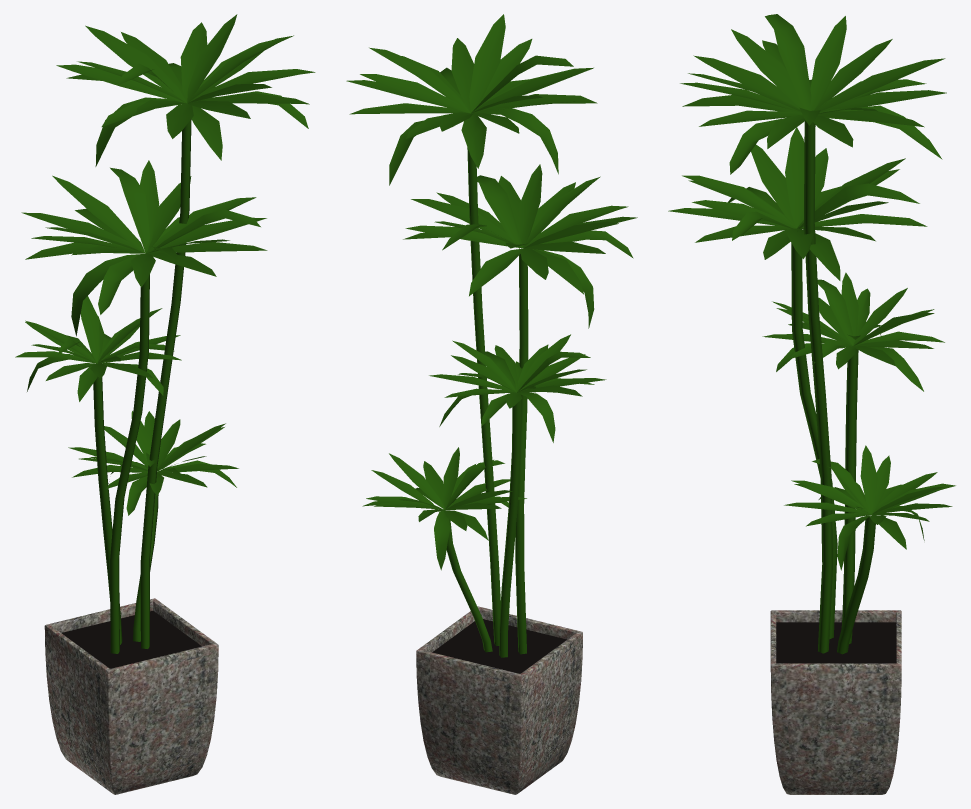
3 renders of one model, left to right at view 1: azimuth 30°, elevation 25°; view 2: azimuth 150°, elevation 25°; view 3: azimuth 270°, elevation 25°, orthographic. The views are drawn at different scales.
Visible parts, largest first — view 1: Node; view 2: Node; view 3: Node.
Boxes of the visible parts, x1,y1,x2,y2 form: Node: [15, 14, 315, 794]; Node: [346, 14, 637, 794]; Node: [668, 14, 955, 794].
Bounding box in the file's own units: 0.5614 × 1.5 × 0.5298.
3 materials, 1 textured.
